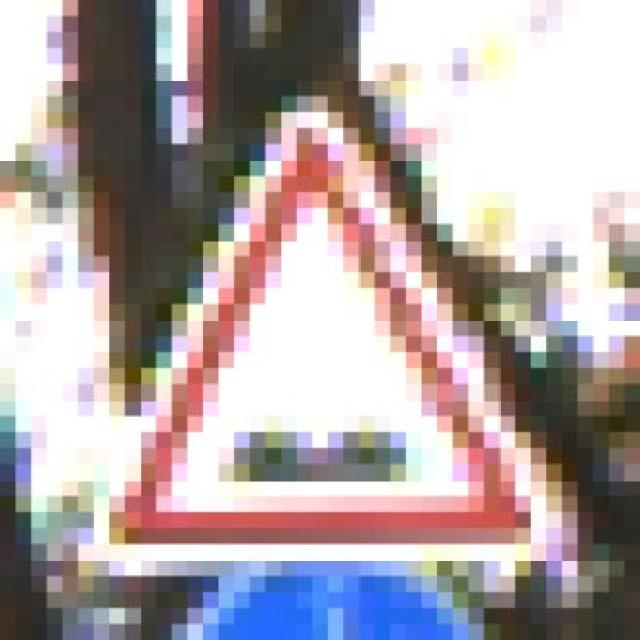Uneven Road: (109, 95, 562, 560)
